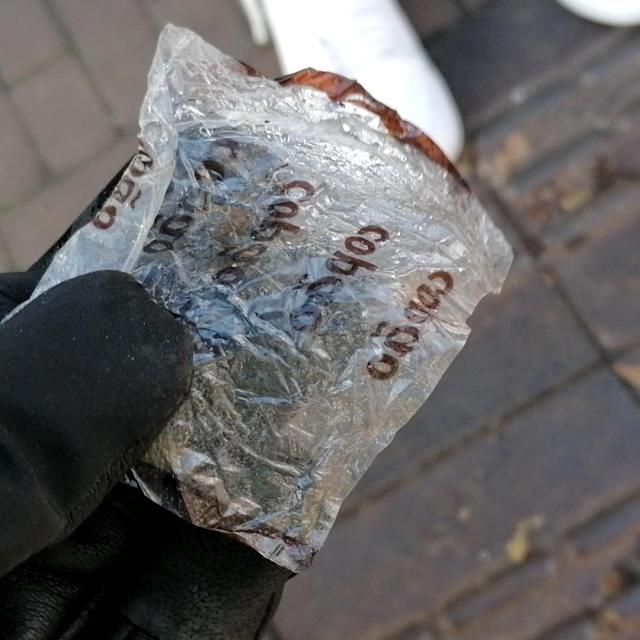Plastic: (1, 20, 516, 578)
